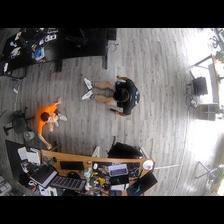fall: (82, 75, 143, 119), (34, 97, 68, 144)
